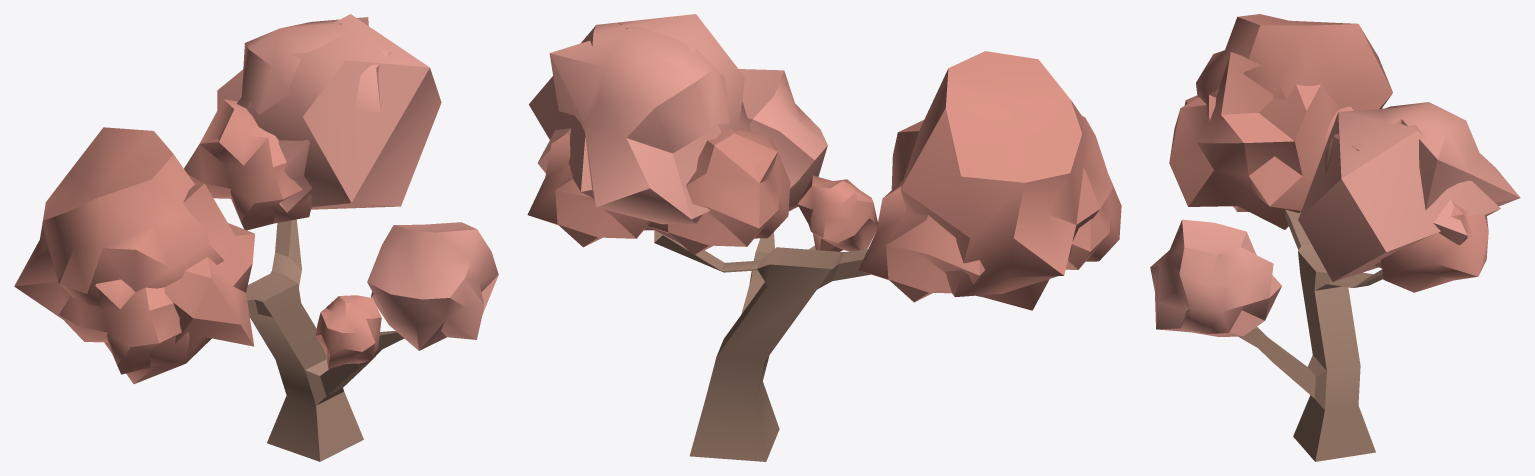
File: tree.gltf
The picture shows the model from 3 angles, left to right: view 1: azimuth 30°, elevation 25°; view 2: azimuth 150°, elevation 25°; view 3: azimuth 270°, elevation 25°; orthographic projection. The views are drawn at different scales.
Parts seen in each view (by area): view 1: Sphere.2 (×2), Sphere.3, Tree, Sphere, Sphere.5, Sphere.6, Sphere.7, Sphere.1; view 2: Sphere.3, Sphere.2 (×2), Tree, Sphere.6, Sphere.5 (×2), Sphere, Sphere.4, Sphere.1, Sphere.7; view 3: Sphere.2 (×2), Sphere.5, Tree, Sphere.3, Sphere, Sphere.4.
Boxes of the visible parts, x1,y1,x2,y2 form: Sphere.2 (×2): [217, 14, 441, 212]; Sphere.3: [14, 127, 224, 319]; Tree: [246, 219, 403, 461]; Sphere: [367, 222, 498, 350]; Sphere.5: [104, 183, 254, 383]; Sphere.6: [184, 99, 311, 230]; Sphere.7: [59, 279, 190, 374]; Sphere.1: [315, 295, 381, 368]; Sphere.3: [900, 51, 1112, 296]; Sphere.2 (×2): [529, 14, 751, 243]; Tree: [654, 230, 870, 461]; Sphere.6: [647, 126, 790, 255]; Sphere.5 (×2): [858, 120, 1049, 310]; Sphere: [739, 69, 827, 211]; Sphere.4: [527, 134, 653, 247]; Sphere.1: [797, 175, 877, 251]; Sphere.7: [1065, 176, 1121, 269]; Sphere.2 (×2): [1298, 102, 1520, 281]; Sphere.5: [1169, 52, 1340, 229]; Tree: [1238, 209, 1383, 461]; Sphere.3: [1196, 14, 1392, 121]; Sphere: [1150, 219, 1281, 336]; Sphere.4: [1381, 204, 1488, 292].
Bounding box in the file's own units: 19.63 × 15.73 × 15.
